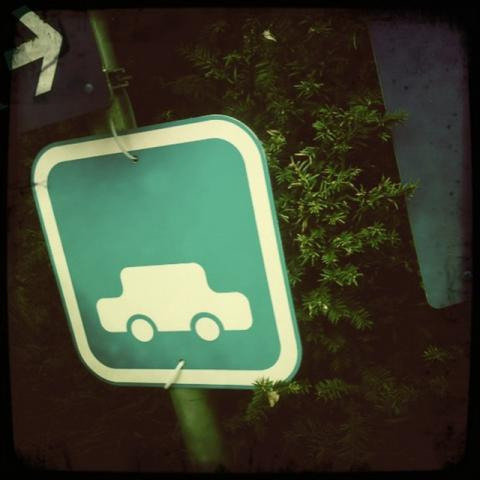car: (92, 260, 257, 346)
